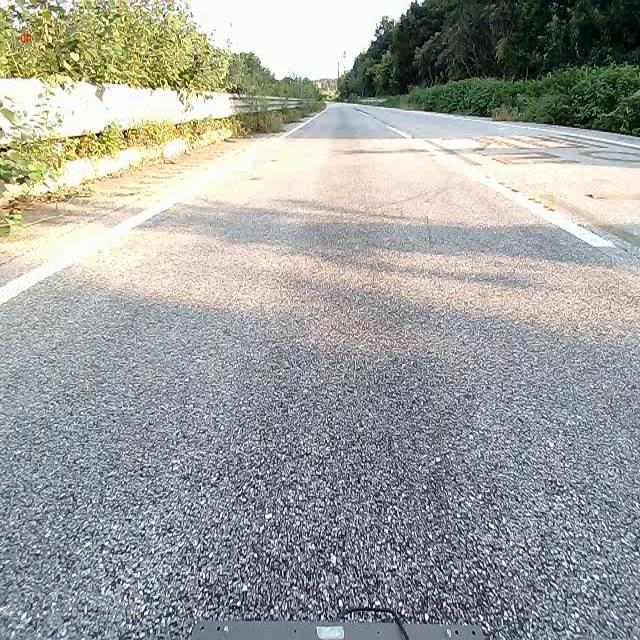Lane: (345, 97, 633, 255), (346, 105, 619, 249), (0, 176, 208, 304), (0, 187, 197, 305)
